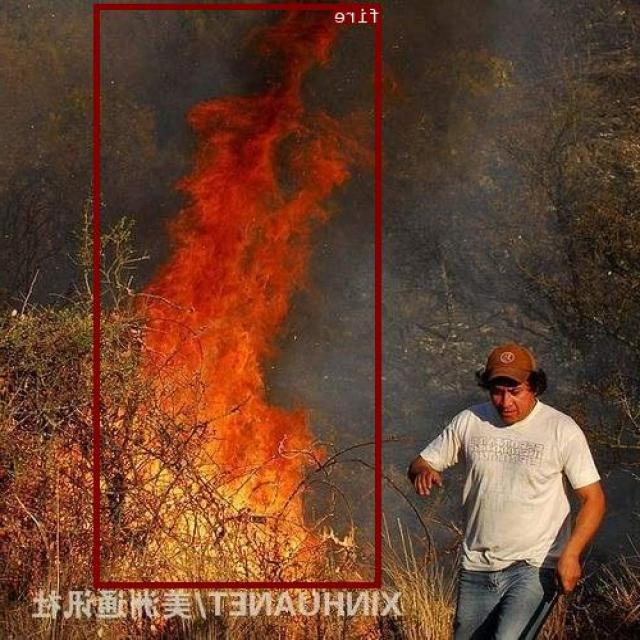fire: (96, 3, 382, 587)
